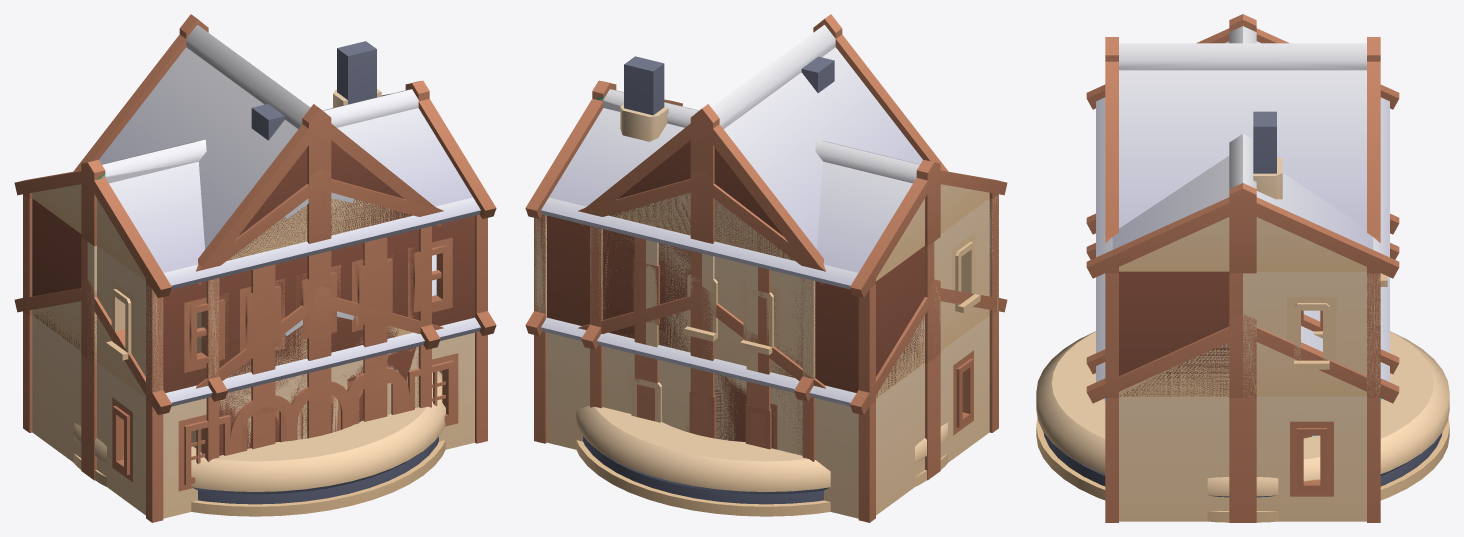
File: settlement.glb
3 views of the same model, side by side, from view 1: azimuth 30°, elevation 25°; view 2: azimuth 150°, elevation 25°; view 3: azimuth 270°, elevation 25° (orthographic). The views are drawn at different scales.
Visible parts, largest first — view 1: hall_body, longhouse_body, hall_roof, townhouse_body, fountain_body, tallhouse_roof, tallhouse_body, croft_body, cottage_body, longhouse_roof, cottage_roof; view 2: hall_body, longhouse_body, townhouse_body, hall_roof, fountain_body, tallhouse_body, tallhouse_roof, cottage_body, croft_body, longhouse_roof, cottage_roof; view 3: longhouse_body, hall_body, tallhouse_roof, fountain_body, hall_roof, tallhouse_body, longhouse_roof, cottage_body, cottage_roof.
Part boxes in pixels (<box>): hall_body: <box>14,41,496,405</box>; longhouse_body: <box>14,279,496,522</box>; hall_roof: <box>102,89,480,289</box>; townhouse_body: <box>196,169,443,378</box>; fountain_body: <box>74,371,445,516</box>; tallhouse_roof: <box>99,25,405,249</box>; tallhouse_body: <box>73,14,441,353</box>; croft_body: <box>191,286,443,455</box>; cottage_body: <box>191,324,440,461</box>; longhouse_roof: <box>165,254,480,406</box>; cottage_roof: <box>223,332,424,392</box>; hall_body: <box>525,56,1007,404</box>; longhouse_body: <box>525,279,1007,522</box>; townhouse_body: <box>578,169,825,378</box>; hall_roof: <box>541,89,919,289</box>; fountain_body: <box>576,405,947,516</box>; tallhouse_body: <box>580,14,948,372</box>; tallhouse_roof: <box>616,25,922,249</box>; cottage_body: <box>581,324,815,461</box>; croft_body: <box>578,286,825,454</box>; longhouse_roof: <box>541,317,856,406</box>; cottage_roof: <box>597,332,798,392</box>; longhouse_body: <box>1086,213,1399,522</box>; hall_body: <box>1086,14,1399,397</box>; tallhouse_roof: <box>1119,43,1366,228</box>; fountain_body: <box>1036,331,1449,522</box>; hall_roof: <box>1096,26,1389,257</box>; tallhouse_body: <box>1105,37,1380,331</box>; longhouse_roof: <box>1096,273,1389,382</box>; cottage_body: <box>1086,243,1399,374</box>; cottage_roof: <box>1096,273,1389,352</box>.
Size of the model in its own units: 4.34 by 4.47 by 4.2.
Materials: 2 (1 with a texture image).
